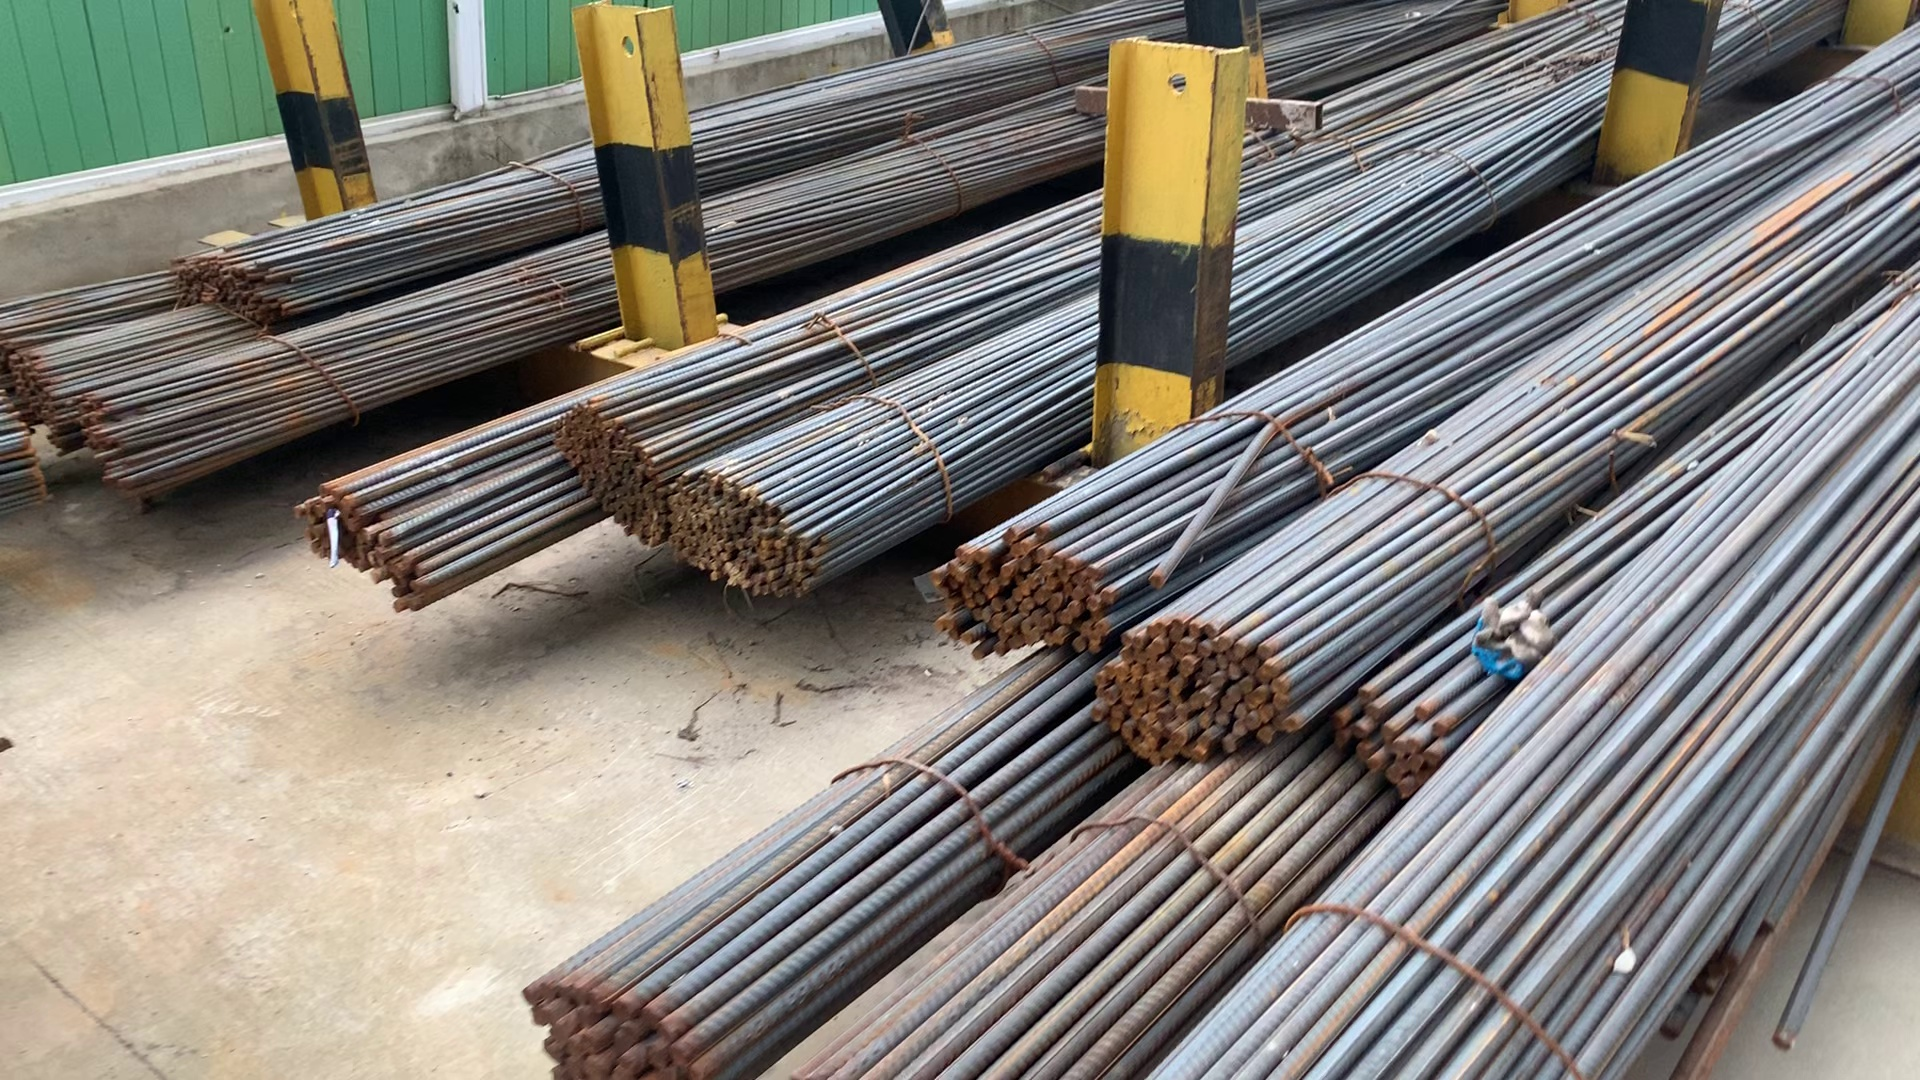rebar: (1084, 626, 1296, 764), (924, 527, 1112, 665), (516, 976, 713, 1080), (669, 475, 829, 603), (291, 477, 434, 620), (564, 407, 670, 549), (1335, 673, 1445, 796), (170, 256, 302, 342)
